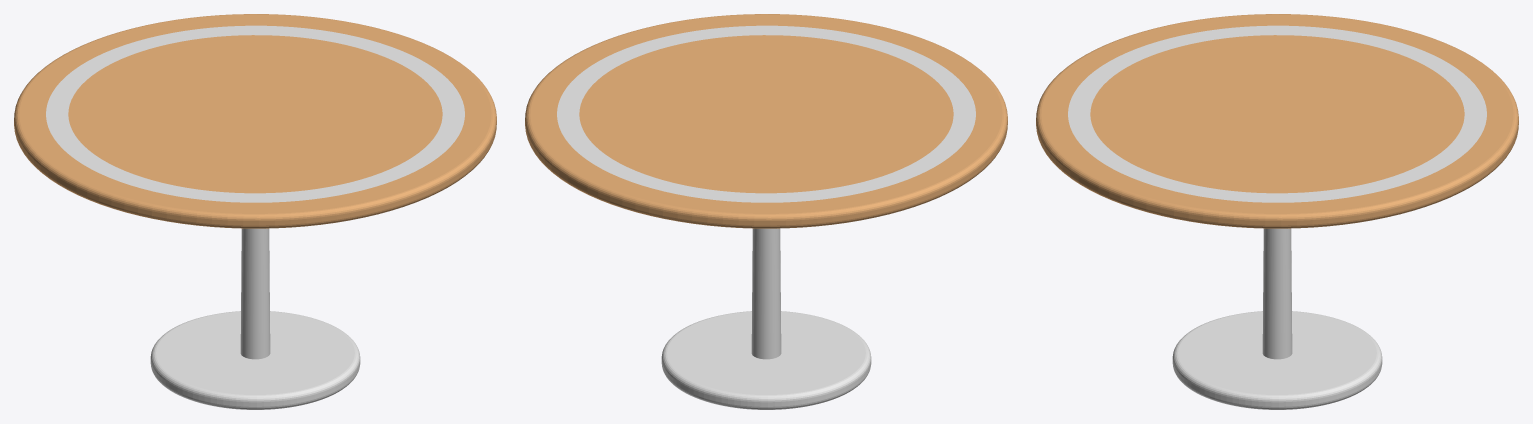
3 views of the same model, side by side, from view 1: azimuth 30°, elevation 25°; view 2: azimuth 150°, elevation 25°; view 3: azimuth 270°, elevation 25° (orthographic).
Visible parts, largest first — view 1: Circle.004; view 2: Circle.004; view 3: Circle.004.
Part boxes in pixels (x1=…): Circle.004: x1=14, y1=14, x2=496, y2=409; Circle.004: x1=525, y1=14, x2=1007, y2=409; Circle.004: x1=1036, y1=14, x2=1518, y2=409.
Bounding box in the file's own units: 170 × 98.67 × 170.
